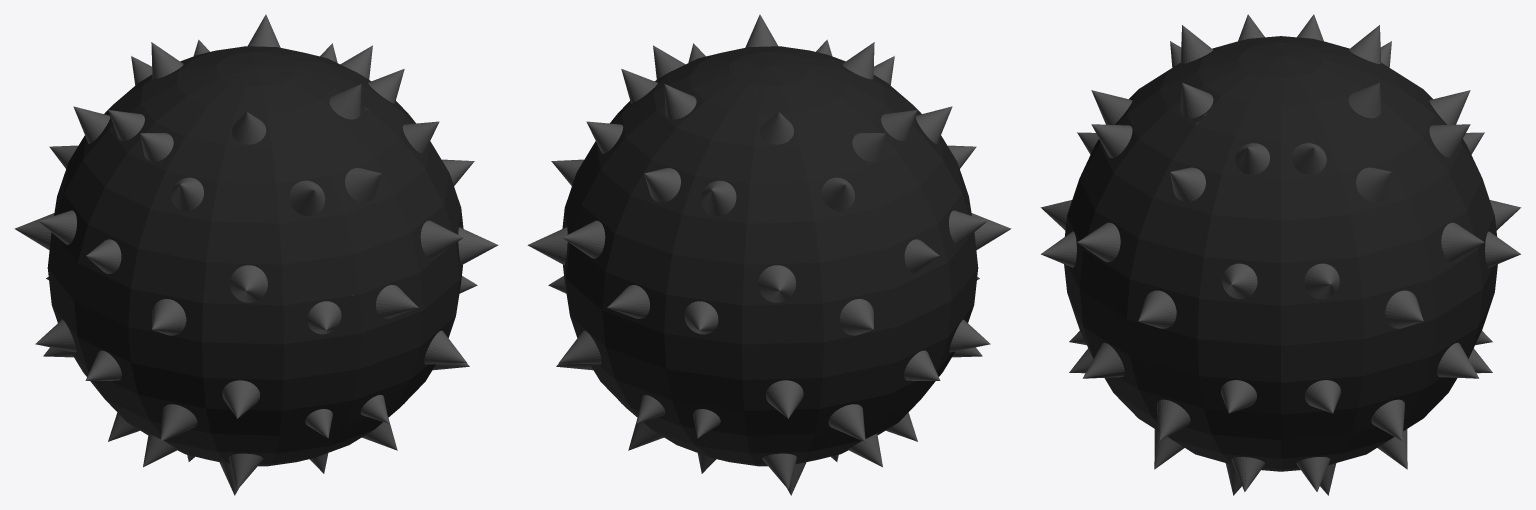
File: spike_ball.glb
3 views of the same model, side by side, from view 1: azimuth 30°, elevation 25°; view 2: azimuth 150°, elevation 25°; view 3: azimuth 270°, elevation 25° (orthographic). The views are drawn at different scales.
Parts seen in each view (by area): view 1: Sphere_0; view 2: Sphere_0; view 3: Sphere_0.
Part boxes in pixels (bbox=[...]): Sphere_0: bbox=[14, 14, 498, 495]; Sphere_0: bbox=[527, 14, 1011, 495]; Sphere_0: bbox=[1040, 14, 1521, 495].
Size of the model in its own units: 2.15 by 2.12 by 2.21.
1 material, 1 textured.
